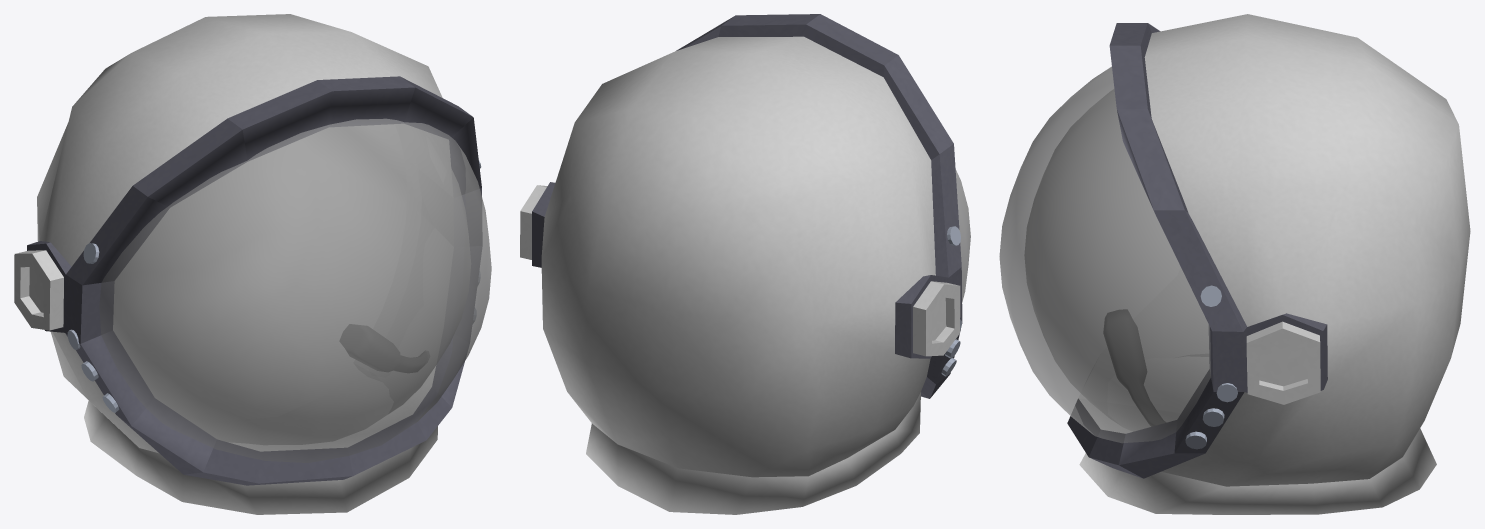
The model's file is Helmet.fbx.
3 views of the same model, side by side, from view 1: azimuth 30°, elevation 25°; view 2: azimuth 150°, elevation 25°; view 3: azimuth 270°, elevation 25° (orthographic). The views are drawn at different scales.
Visible parts, largest first — view 1: MainHelmet, glassSheild, MicroPhone; view 2: MainHelmet, glassSheild; view 3: MainHelmet, glassSheild, MicroPhone.
Part boxes in pixels (box(x1,y1,x2,y2)): MainHelmet: box(14, 14, 481, 514); glassSheild: box(99, 118, 491, 462); MicroPhone: box(340, 324, 427, 372); MainHelmet: box(520, 14, 962, 514); glassSheild: box(955, 169, 970, 302); MainHelmet: box(1067, 14, 1470, 514); glassSheild: box(999, 66, 1210, 443); MicroPhone: box(1104, 310, 1165, 425).
Size of the model in its own units: 11.18 by 10.35 by 10.35.
Materials: 4 (1 with a texture image).
